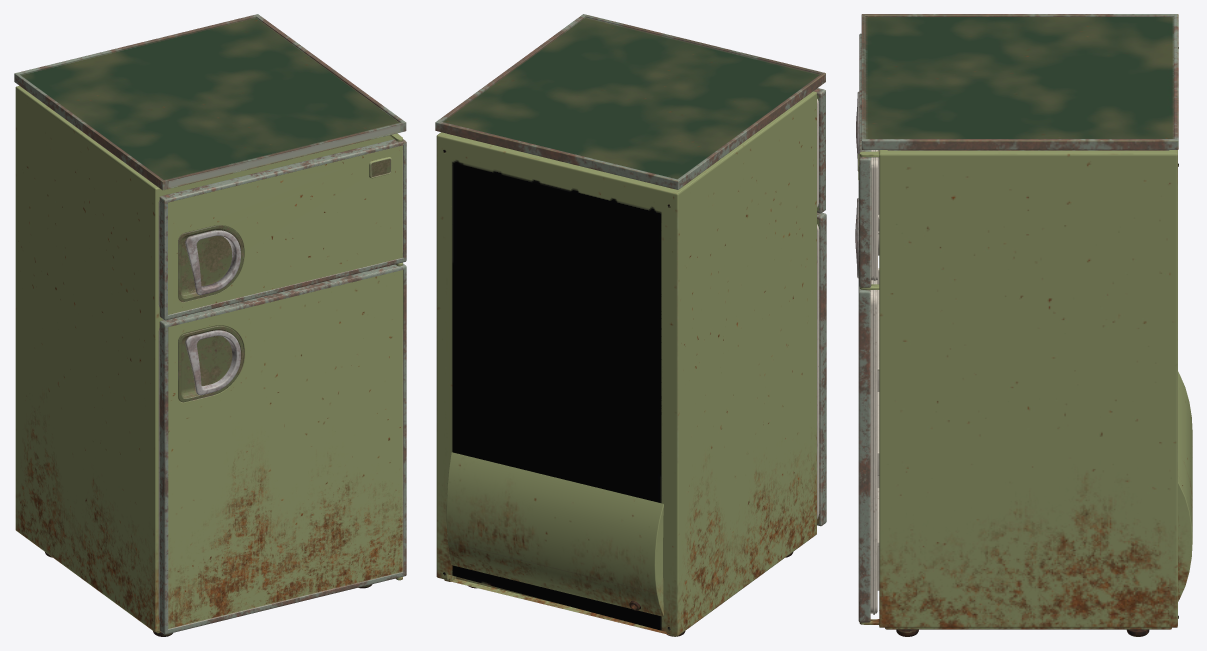
Rendered from Fridge 2.fbx.
3 views of the same model, side by side, from view 1: azimuth 30°, elevation 25°; view 2: azimuth 150°, elevation 25°; view 3: azimuth 270°, elevation 25° (orthographic). The views are drawn at different scales.
Parts seen in each view (by area): view 1: Body_Baked, DoorDown_Baked, DoorUp_Baked; view 2: Body_Baked, DoorDown_Baked, DoorUp_Baked; view 3: Body_Baked, DoorDown_Baked, DoorUp_Baked.
Part boxes in pixels (left/top/right/bottom): Body_Baked: left=14, top=14, right=406, bottom=636; DoorDown_Baked: left=158, top=263, right=406, bottom=634; DoorUp_Baked: left=158, top=139, right=406, bottom=320; Body_Baked: left=435, top=14, right=825, bottom=636; DoorDown_Baked: left=817, top=212, right=826, bottom=526; DoorUp_Baked: left=813, top=88, right=825, bottom=213; Body_Baked: left=859, top=14, right=1192, bottom=636; DoorDown_Baked: left=855, top=181, right=879, bottom=622; DoorUp_Baked: left=856, top=33, right=879, bottom=287.
Size of the model in its own units: 80.48 by 149 by 90.34.
